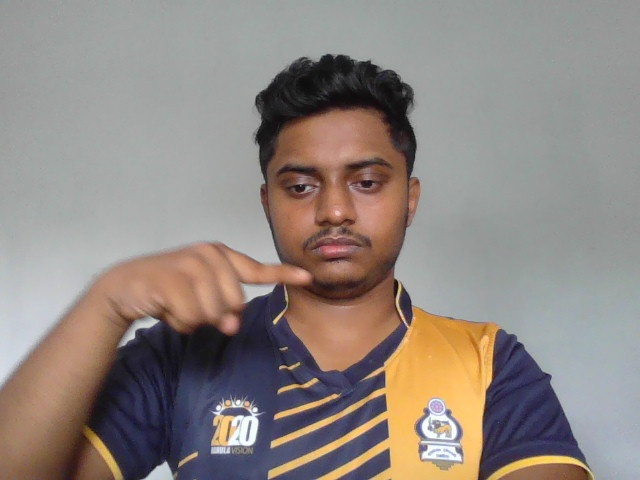Going To: (97, 235, 317, 344)
